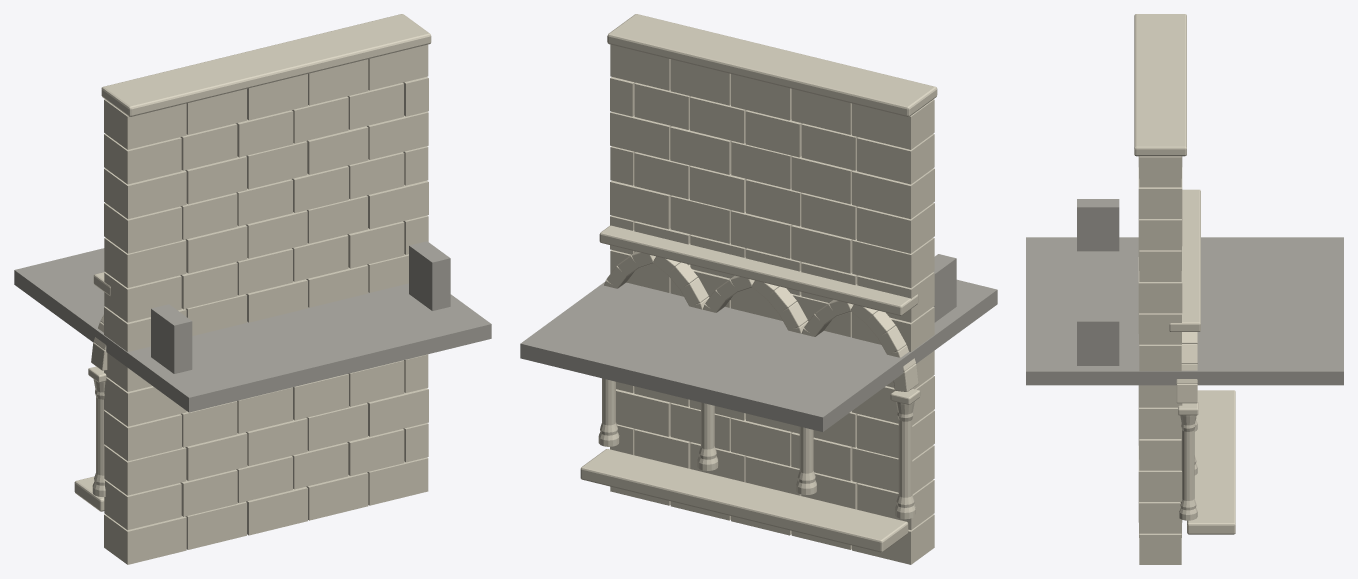
Rendered from monastery_chapter_house_bay.glb.
3 renders of one model, left to right at view 1: azimuth 30°, elevation 25°; view 2: azimuth 150°, elevation 25°; view 3: azimuth 270°, elevation 25°, orthographic. The views are drawn at different scales.
Parts seen in each view (by area): view 1: world; view 2: world; view 3: world.
Part boxes in pixels (x1,y1,x2,y2): world: (14, 14, 491, 564); world: (520, 14, 997, 564); world: (1026, 14, 1343, 564).
Size of the model in its own units: 1.44 by 2 by 1.38.
